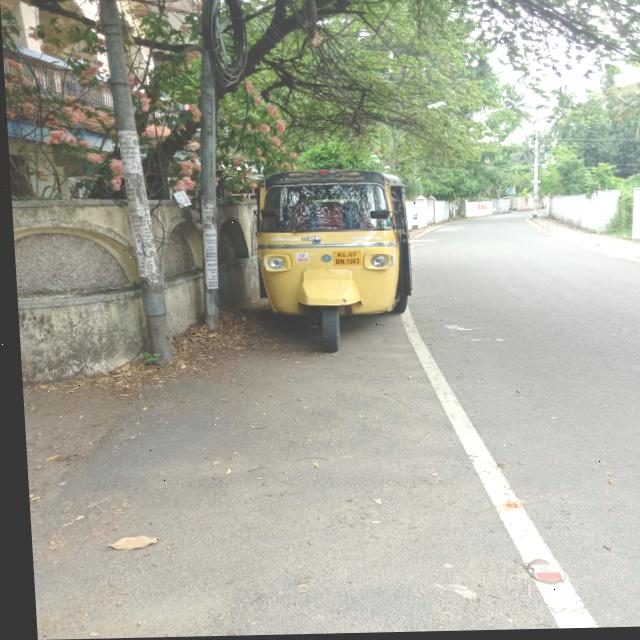plate: (329, 252, 359, 268)
